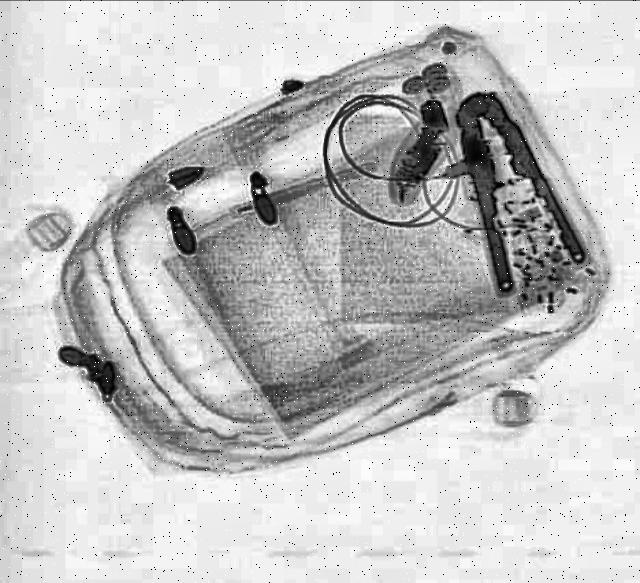Pliers: (422, 80, 590, 292)
